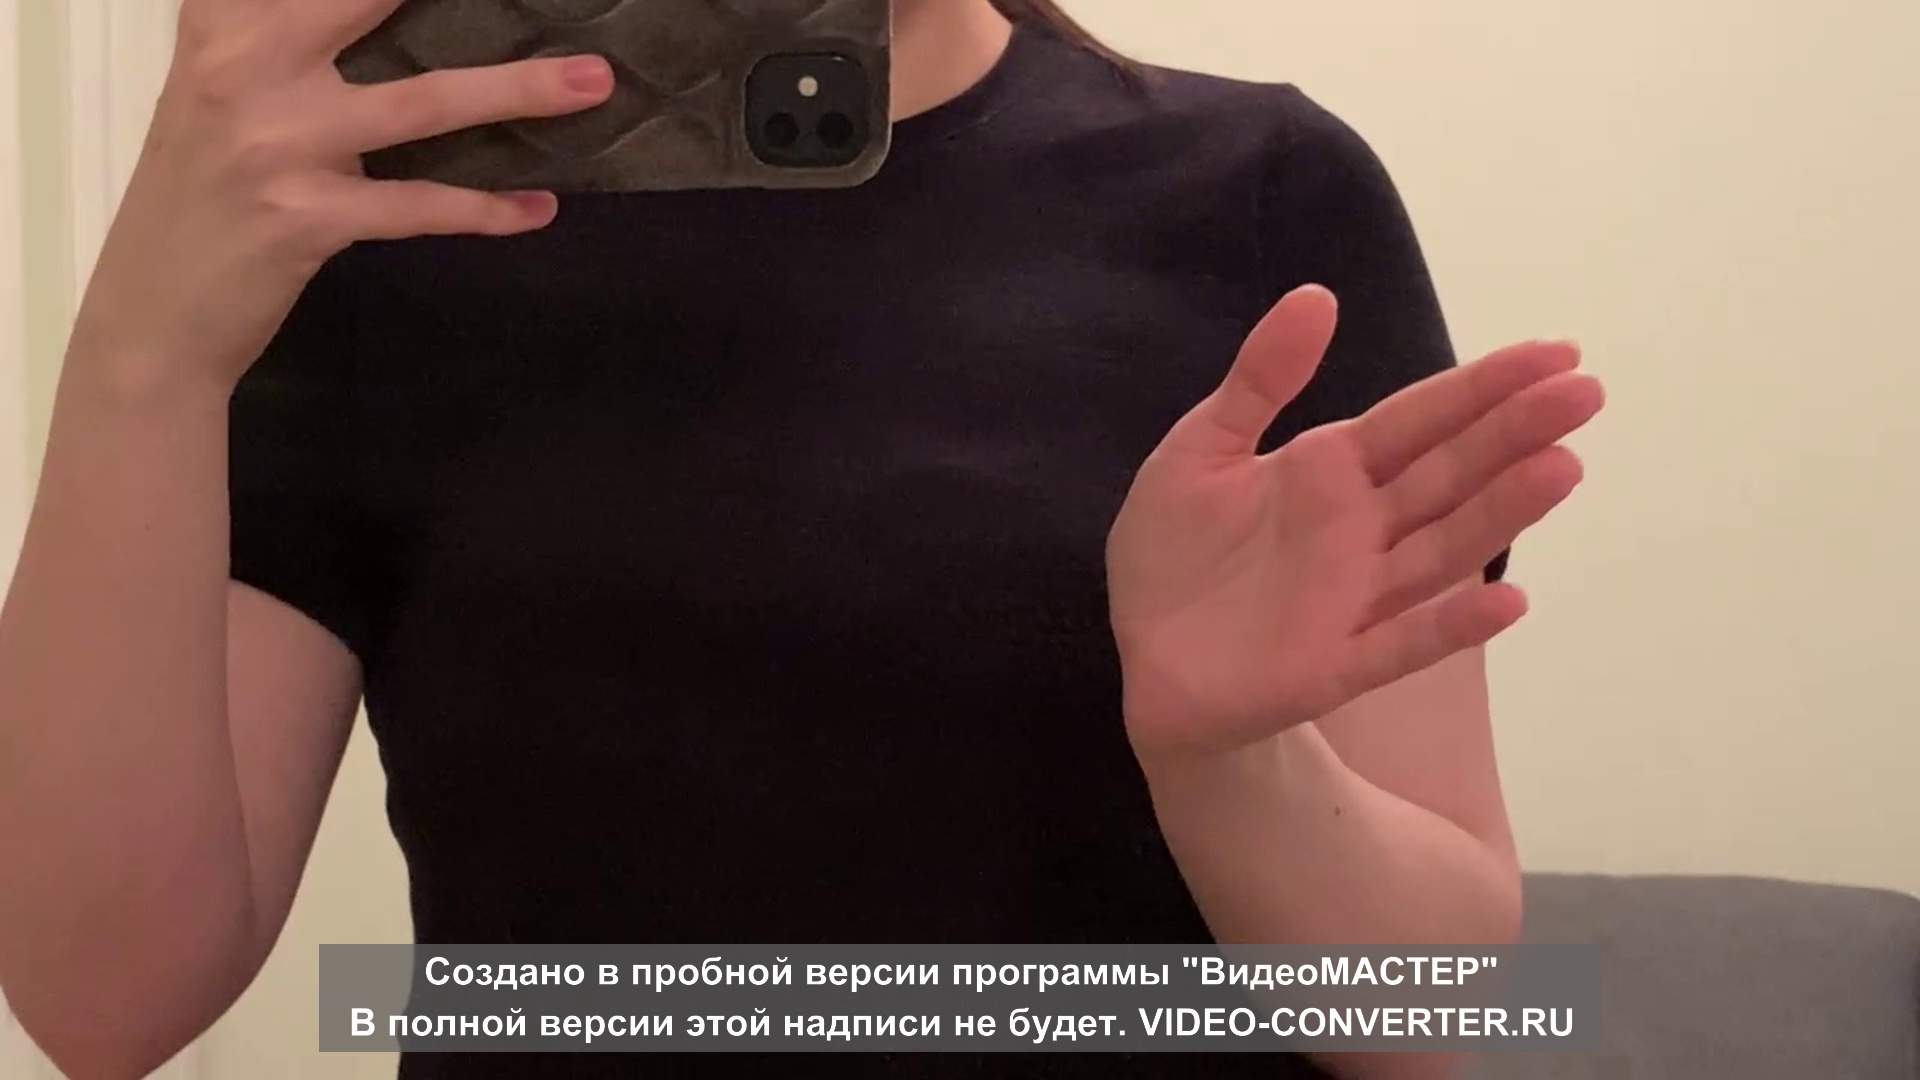Ладонь: (1105, 281, 1606, 742)
